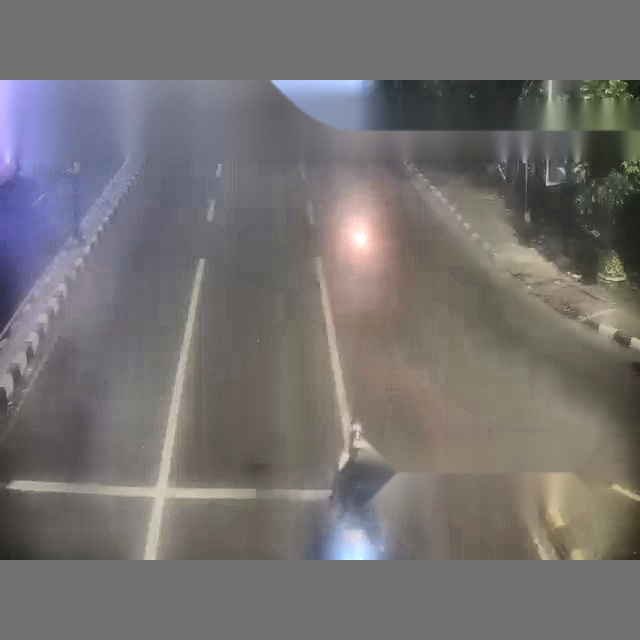Truk: (200, 92, 640, 546)
